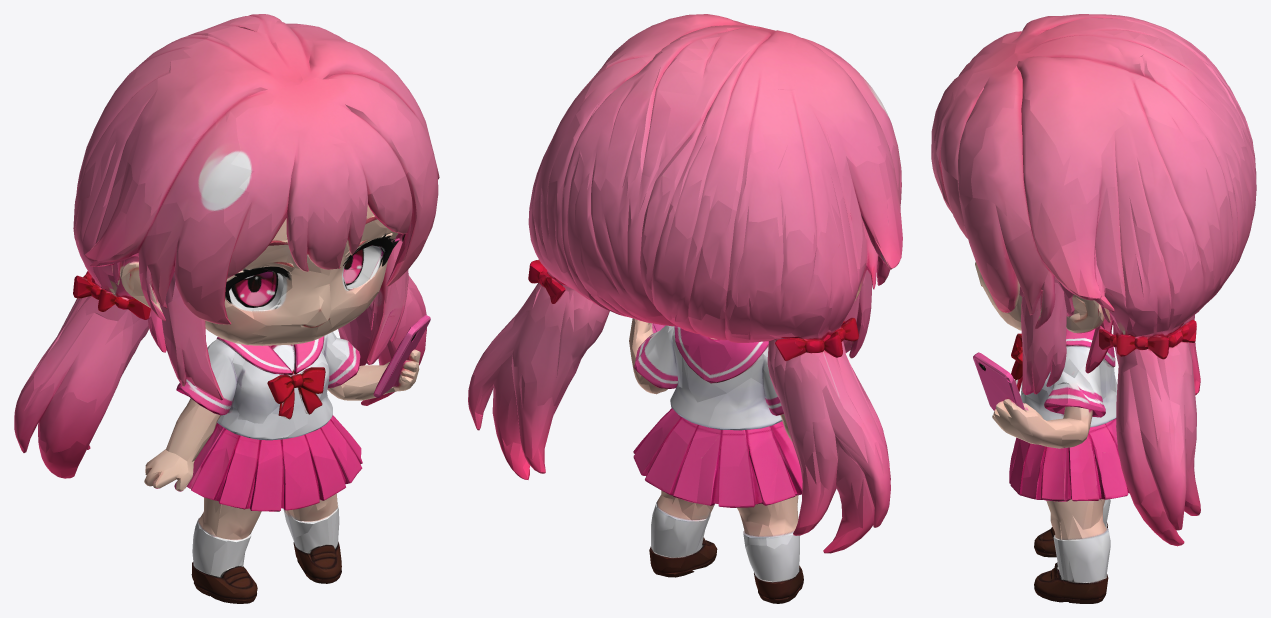
File: Yuno Gasay.glb
3 renders of one model, left to right at view 1: azimuth 30°, elevation 25°; view 2: azimuth 150°, elevation 25°; view 3: azimuth 270°, elevation 25°, orthographic. The views are drawn at different scales.
Visible parts, largest first — view 1: Mesh_0; view 2: Mesh_0; view 3: Mesh_0.
Boxes of the visible parts, <box> form: Mesh_0: <box>14,14,439,603</box>; Mesh_0: <box>468,14,902,603</box>; Mesh_0: <box>931,14,1256,603</box>.
Bounding box in the file's own units: 1.51 × 1.9 × 1.04.
1 material, 1 textured.
